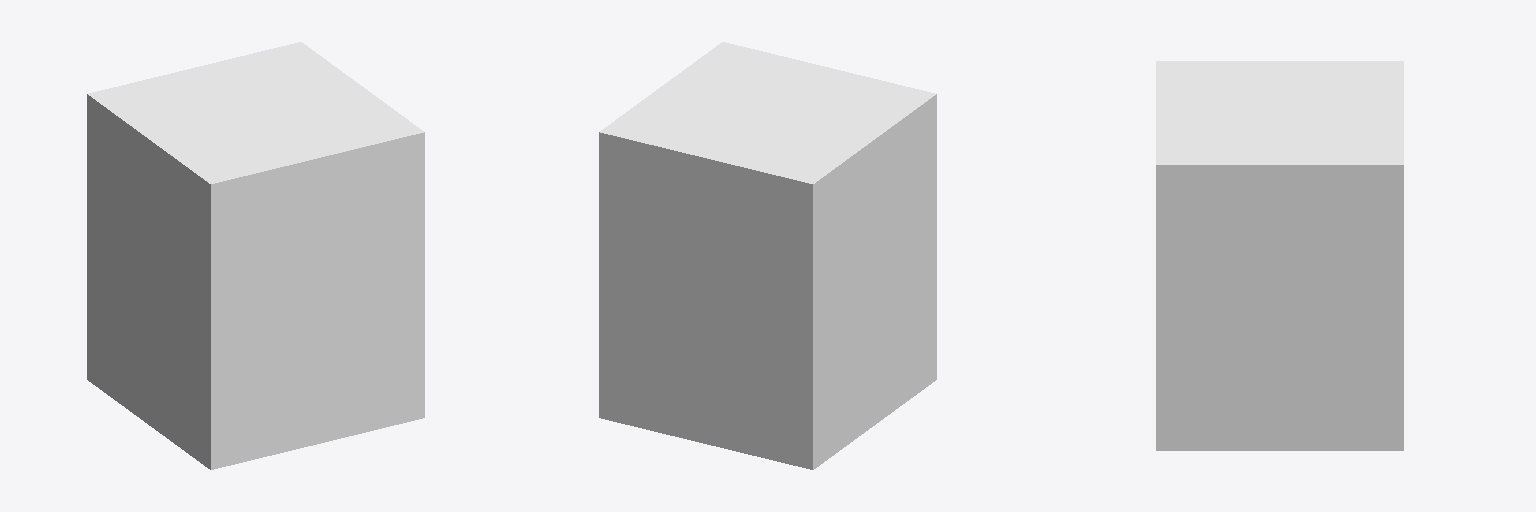
File: Level3.obj
The picture shows the model from 3 angles: view 1: azimuth 30°, elevation 25°; view 2: azimuth 150°, elevation 25°; view 3: azimuth 270°, elevation 25°; orthographic projection.
Visible parts, largest first — view 1: object 1; view 2: object 1; view 3: object 1.
Boxes of the visible parts, box(x1,y1,x2,y2) form: object 1: box(87, 42, 424, 469); object 1: box(599, 42, 936, 469); object 1: box(1156, 61, 1403, 450).
Size of the model in its own units: 4 by 5.1 by 4.